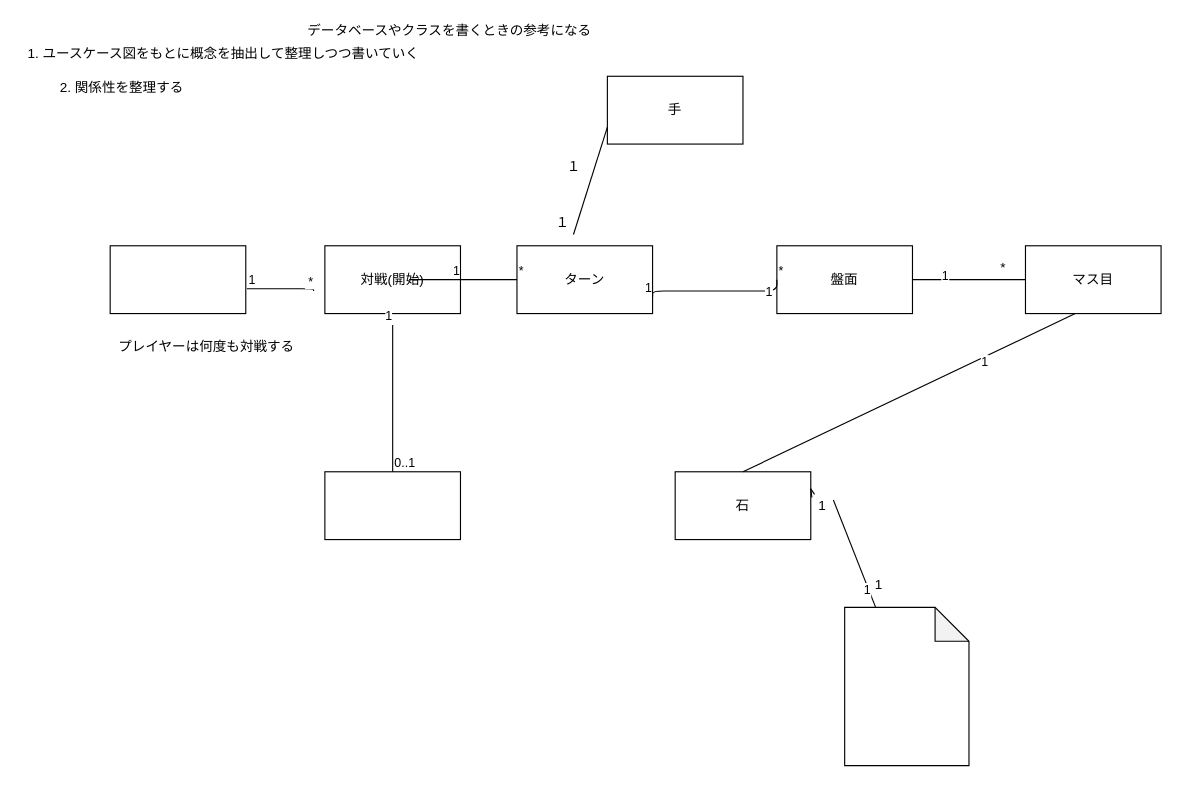
Image size: 1181x785. Some labels were removed from this diagram. Each missing label, with the centre of its shape:
"プレイヤー" belongs at pixel 177 279.
"対戦結果" belongs at pixel 392 505.
"石の種類 - 空 - 黒 - 白" belongs at pixel 906 686.
